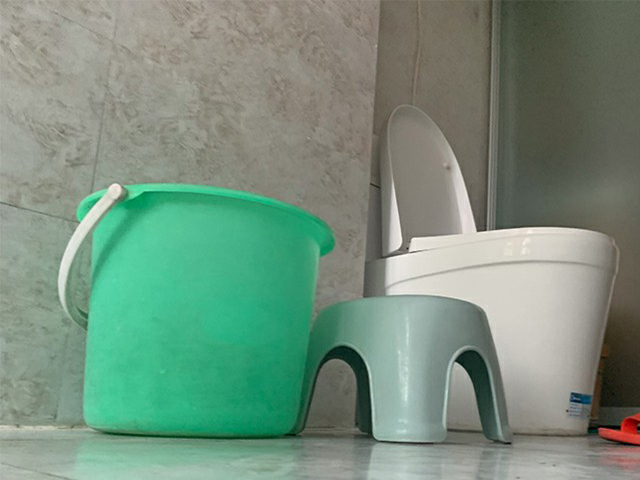closestool: (365, 103, 619, 438)
slippers: (596, 412, 640, 446)
stool: (291, 293, 515, 445)
